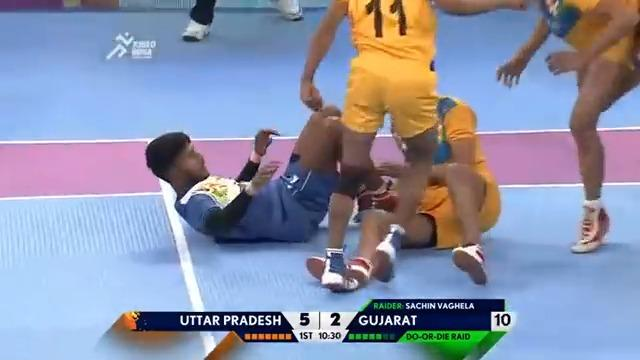Player: (298, 0, 547, 291), (496, 0, 639, 253), (349, 93, 502, 285)
Raider: (143, 102, 384, 244)
referee: (180, 0, 304, 41)
